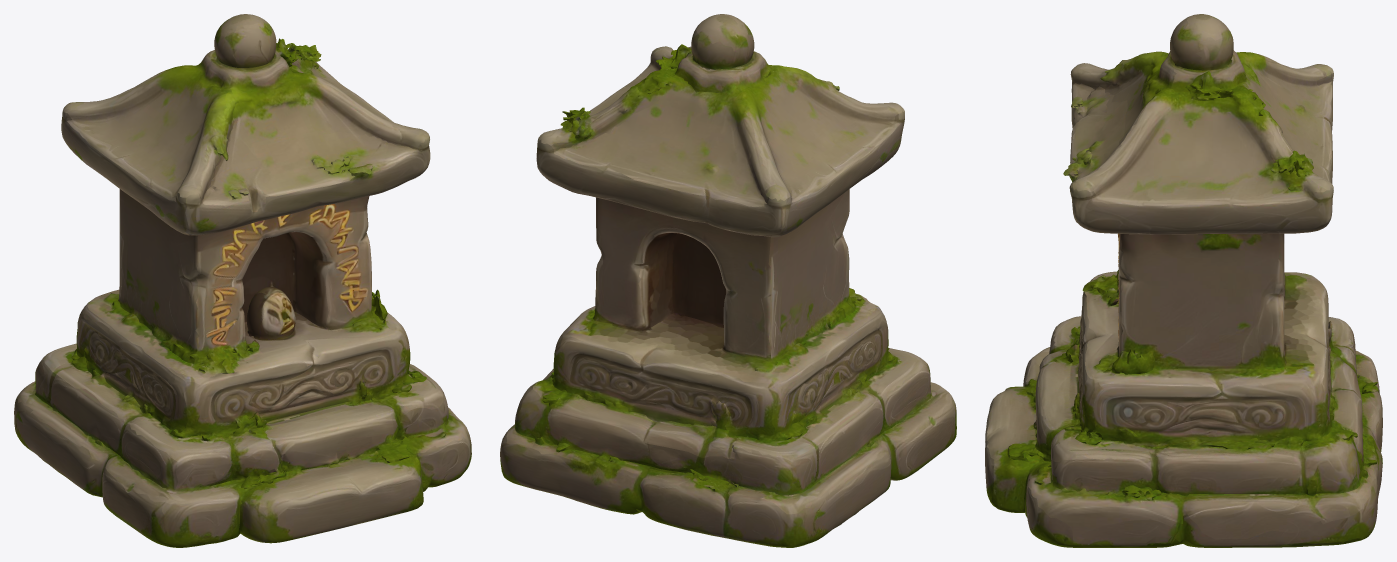
File: origin_trail_shrine.glb
3 renders of one model, left to right at view 1: azimuth 30°, elevation 25°; view 2: azimuth 150°, elevation 25°; view 3: azimuth 270°, elevation 25°, orthographic. The views are drawn at different scales.
Parts seen in each view (by area): view 1: textured_mesh.obj; view 2: textured_mesh.obj; view 3: textured_mesh.obj.
Boxes of the visible parts, left/top/right/bottom form: textured_mesh.obj: left=14, top=14, right=471, bottom=547; textured_mesh.obj: left=500, top=14, right=956, bottom=547; textured_mesh.obj: left=985, top=14, right=1382, bottom=547.
Size of the model in its own units: 1.53 by 1.99 by 1.57.
Materials: 1 (1 with a texture image).
